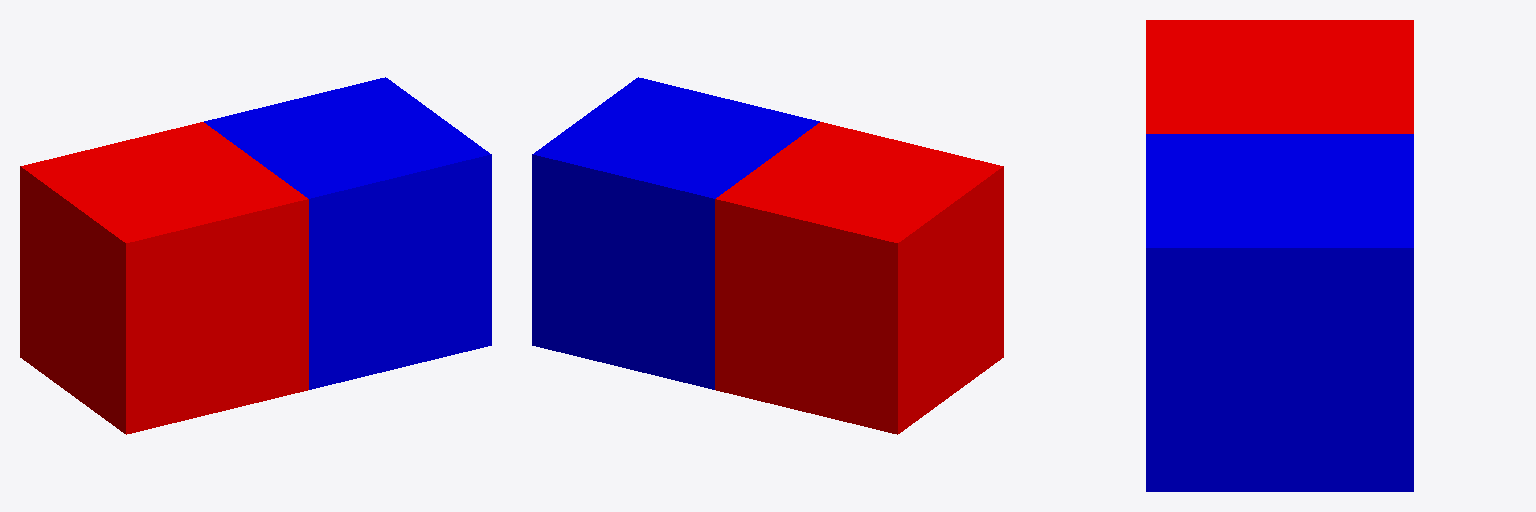
URDF robot description (two_cube_prismatic):
<?xml version="1.0"?>
<robot name="two_cube_prismatic">
  <!-- Base link (fixed cube) -->
  <link name="base">
    <visual>
      <geometry>
        <box size="0.1 0.1 0.1"/>
      </geometry>
      <origin xyz="0 0 0" rpy="0 0 0"/>
      <material name="red">
        <color rgba="1 0 0 1"/>
      </material>
    </visual>
    <collision>
      <geometry>
        <box size="0.1 0.1 0.1"/>
      </geometry>
      <origin xyz="0 0 0" rpy="0 0 0"/>
    </collision>
    <inertial>
      <mass value="1.0"/>
      <inertia ixx="0.00667" ixy="0.0" ixz="0.0" iyy="0.00667" iyz="0.0" izz="0.00667"/>
      <origin xyz="0 0 0" rpy="0 0 0"/>
    </inertial>
  </link>

  <!-- Moving link (cube connected by prismatic joint) -->
  <link name="moving">
    <visual>
      <geometry>
        <box size="0.1 0.1 0.1"/>
      </geometry>
      <origin xyz="0.1 0 0" rpy="0 0 0"/>
      <material name="blue">
        <color rgba="0 0 1 1"/>
      </material>
    </visual>
    <collision>
      <geometry>
        <box size="0.1 0.1 0.1"/>
      </geometry>
      <origin xyz="0.1 0 0" rpy="0 0 0"/>
    </collision>
    <inertial>
      <mass value="1.0"/>
      <inertia ixx="0.00667" ixy="0.0" ixz="0.0" iyy="0.00667" iyz="0.0" izz="0.00667"/>
      <origin xyz="0 0 0" rpy="0 0 0"/>
    </inertial>
  </link>

  <!-- Prismatic joint connecting base to moving link (slides along X axis) -->
  <joint name="joint1" type="prismatic">
    <parent link="base"/>
    <child link="moving"/>
    <origin xyz="0.0 0 0" rpy="0 0 0"/>
    <axis xyz="1 0 0"/>
    <limit lower="-0.3" upper="0.3" effort="100" velocity="1.0"/>
  </joint>

</robot>

--- Render facts (derived) ---
Views: 3 orthographic renders of the robot side by side, from view 1: azimuth 30°, elevation 25°; view 2: azimuth 150°, elevation 25°; view 3: azimuth 270°, elevation 25°.
Robot: two_cube_prismatic — 2 links, 1 joints (1 prismatic); root link base; default pose: every joint at zero.
Visible links, largest first — view 1: base, moving; view 2: base, moving; view 3: moving, base.
Boxes of the visible links, x1,y1,x2,y2 form: base: (20,122,308,434); moving: (204,77,491,389); base: (715,122,1003,434); moving: (532,77,819,389); moving: (1146,134,1413,491); base: (1146,20,1413,133).
Size in the robot's own frame: 0.2 by 0.1 by 0.1 metres.
Geometry: primitives only (box / cylinder / sphere), no mesh files.